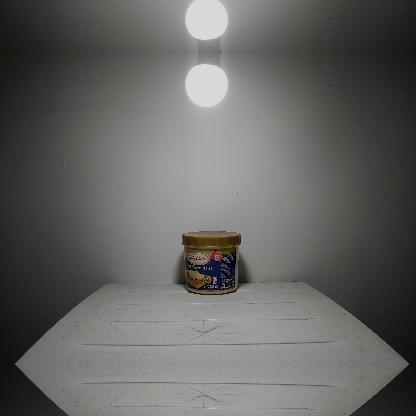Lady-s-Choice: (181, 230, 241, 294)
